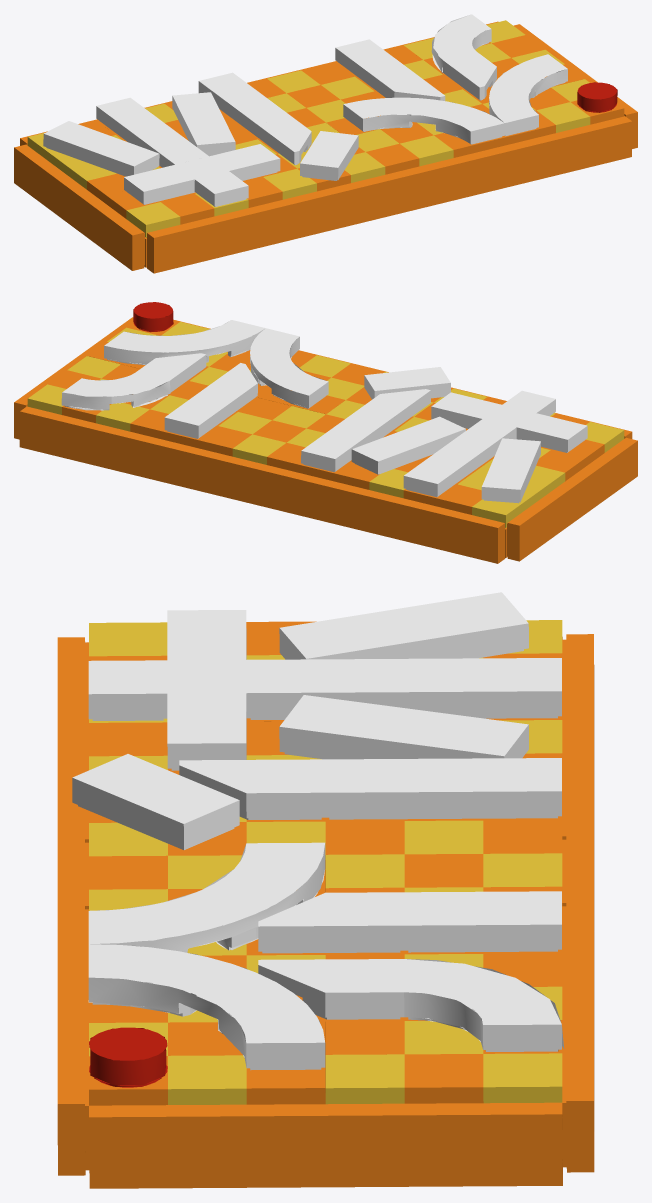
3 views of the same model, one above another, from view 1: azimuth 30°, elevation 25°; view 2: azimuth 150°, elevation 25°; view 3: azimuth 270°, elevation 25° (orthographic). The views are drawn at different scales.
Visible parts, largest first — view 1: 介休橙色; view 2: 介休橙色; view 3: 介休橙色.
Boxes of the visible parts, left/top/right/bottom form: 介休橙色: left=14, top=14, right=637, bottom=273; 介休橙色: left=14, top=302, right=637, bottom=563; 介休橙色: left=57, top=592, right=594, bottom=1188.
Bounding box in the file's own units: 296 × 32.93 × 136.
